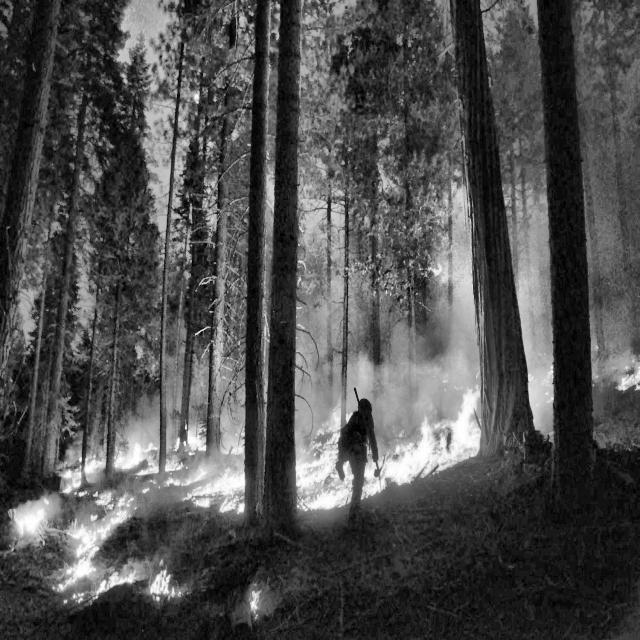fire: (299, 315, 640, 569), (30, 375, 269, 599)
